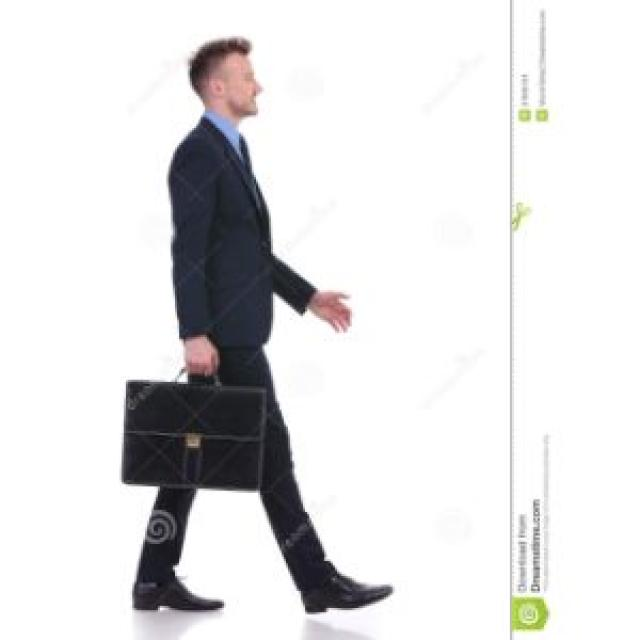nonfall: (100, 36, 404, 624)
